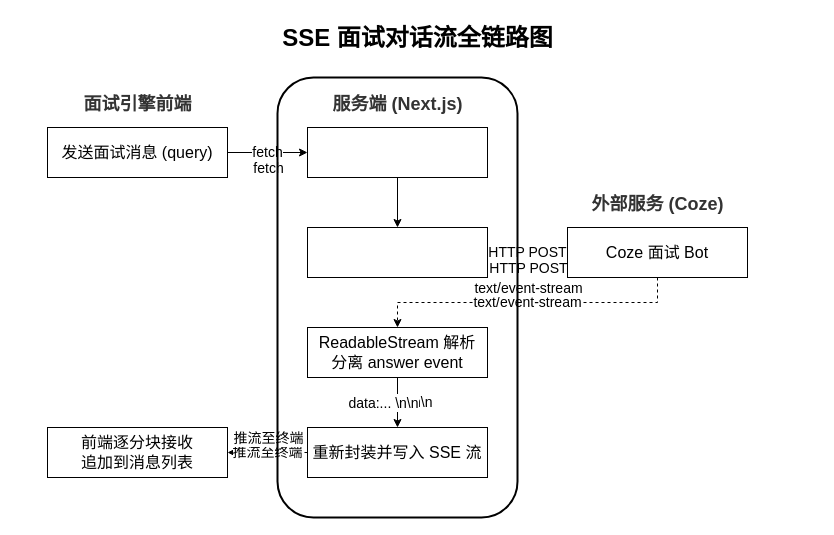
Some shapes in this 834 by 535 pixel diagram are drawn without their labels. Here are the shapes that lost their labels. From the top down, the centre of each, then its label:
At point (397, 152): "POST API /api/interview".
At point (397, 252): "封装为 Payload 带 session_id".
